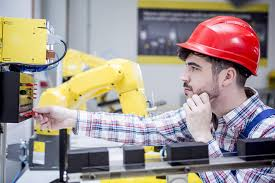Person_wearing_helmet: (171, 13, 263, 76)
